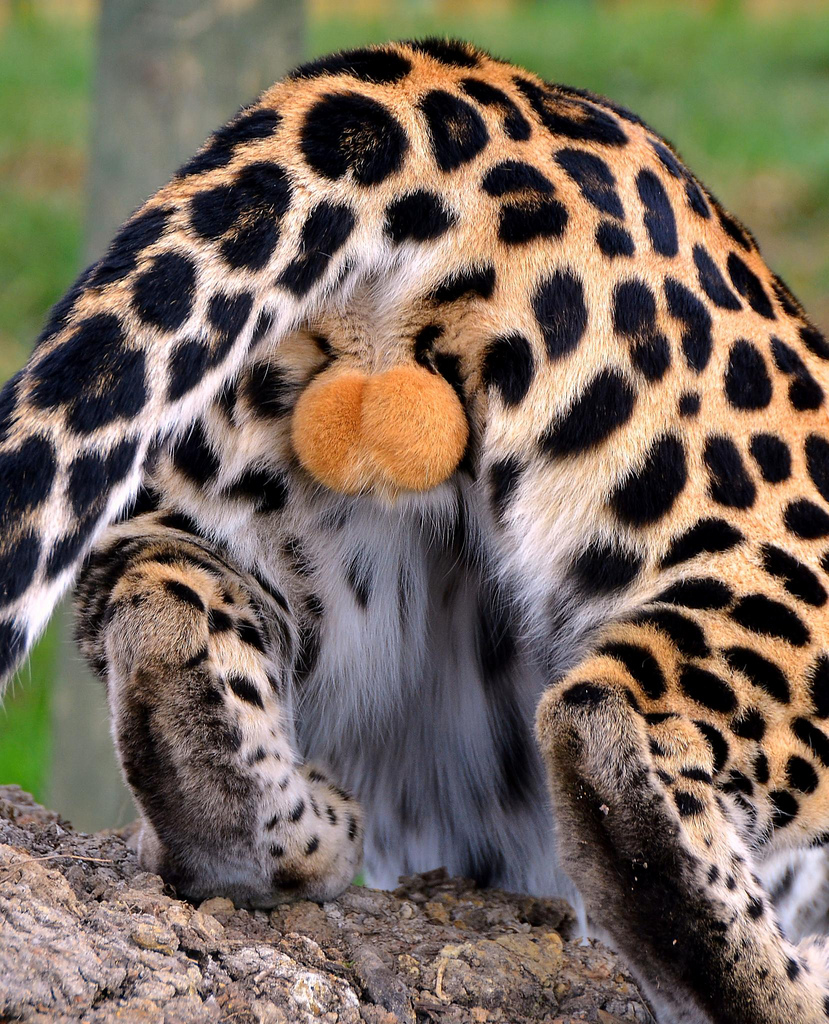Cheetah: (8, 36, 829, 1023)
